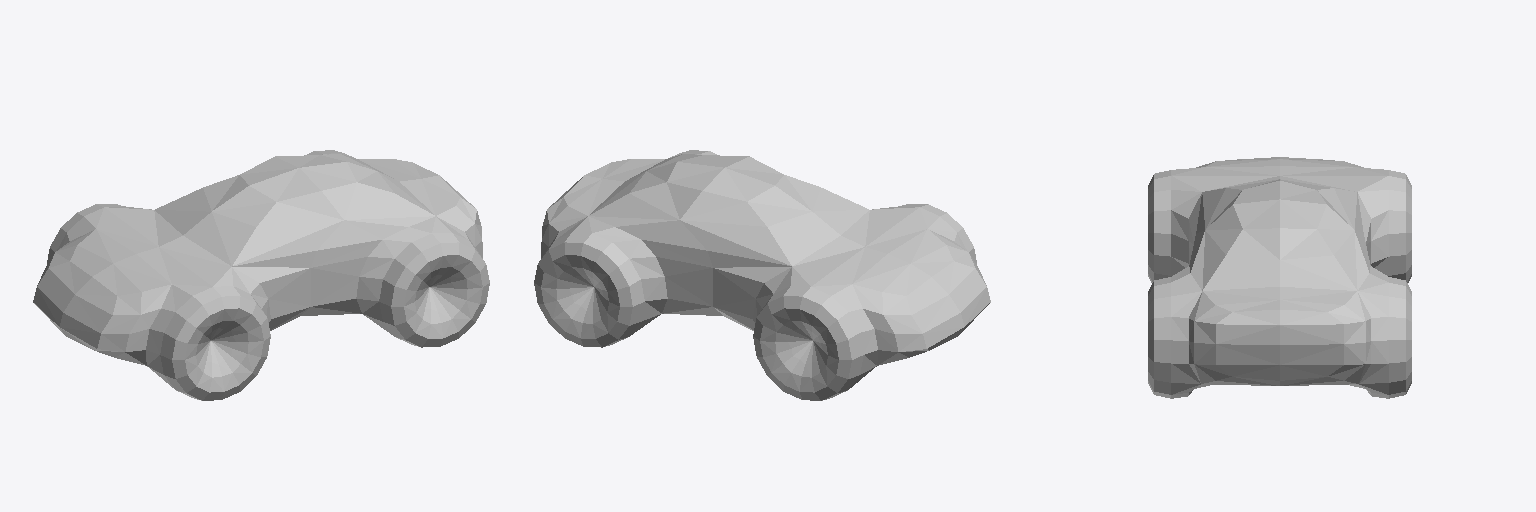
3 renders of one model, left to right at view 1: azimuth 30°, elevation 25°; view 2: azimuth 150°, elevation 25°; view 3: azimuth 270°, elevation 25°, orthographic.
Parts seen in each view (by area): view 1: FunkyCar; view 2: FunkyCar; view 3: FunkyCar.
Boxes of the visible parts, <box> form: FunkyCar: <box>33,150,489,400</box>; FunkyCar: <box>534,150,990,400</box>; FunkyCar: <box>1148,157,1411,398</box>.
Bounding box in the file's own units: 3.93 × 1.48 × 2.28.